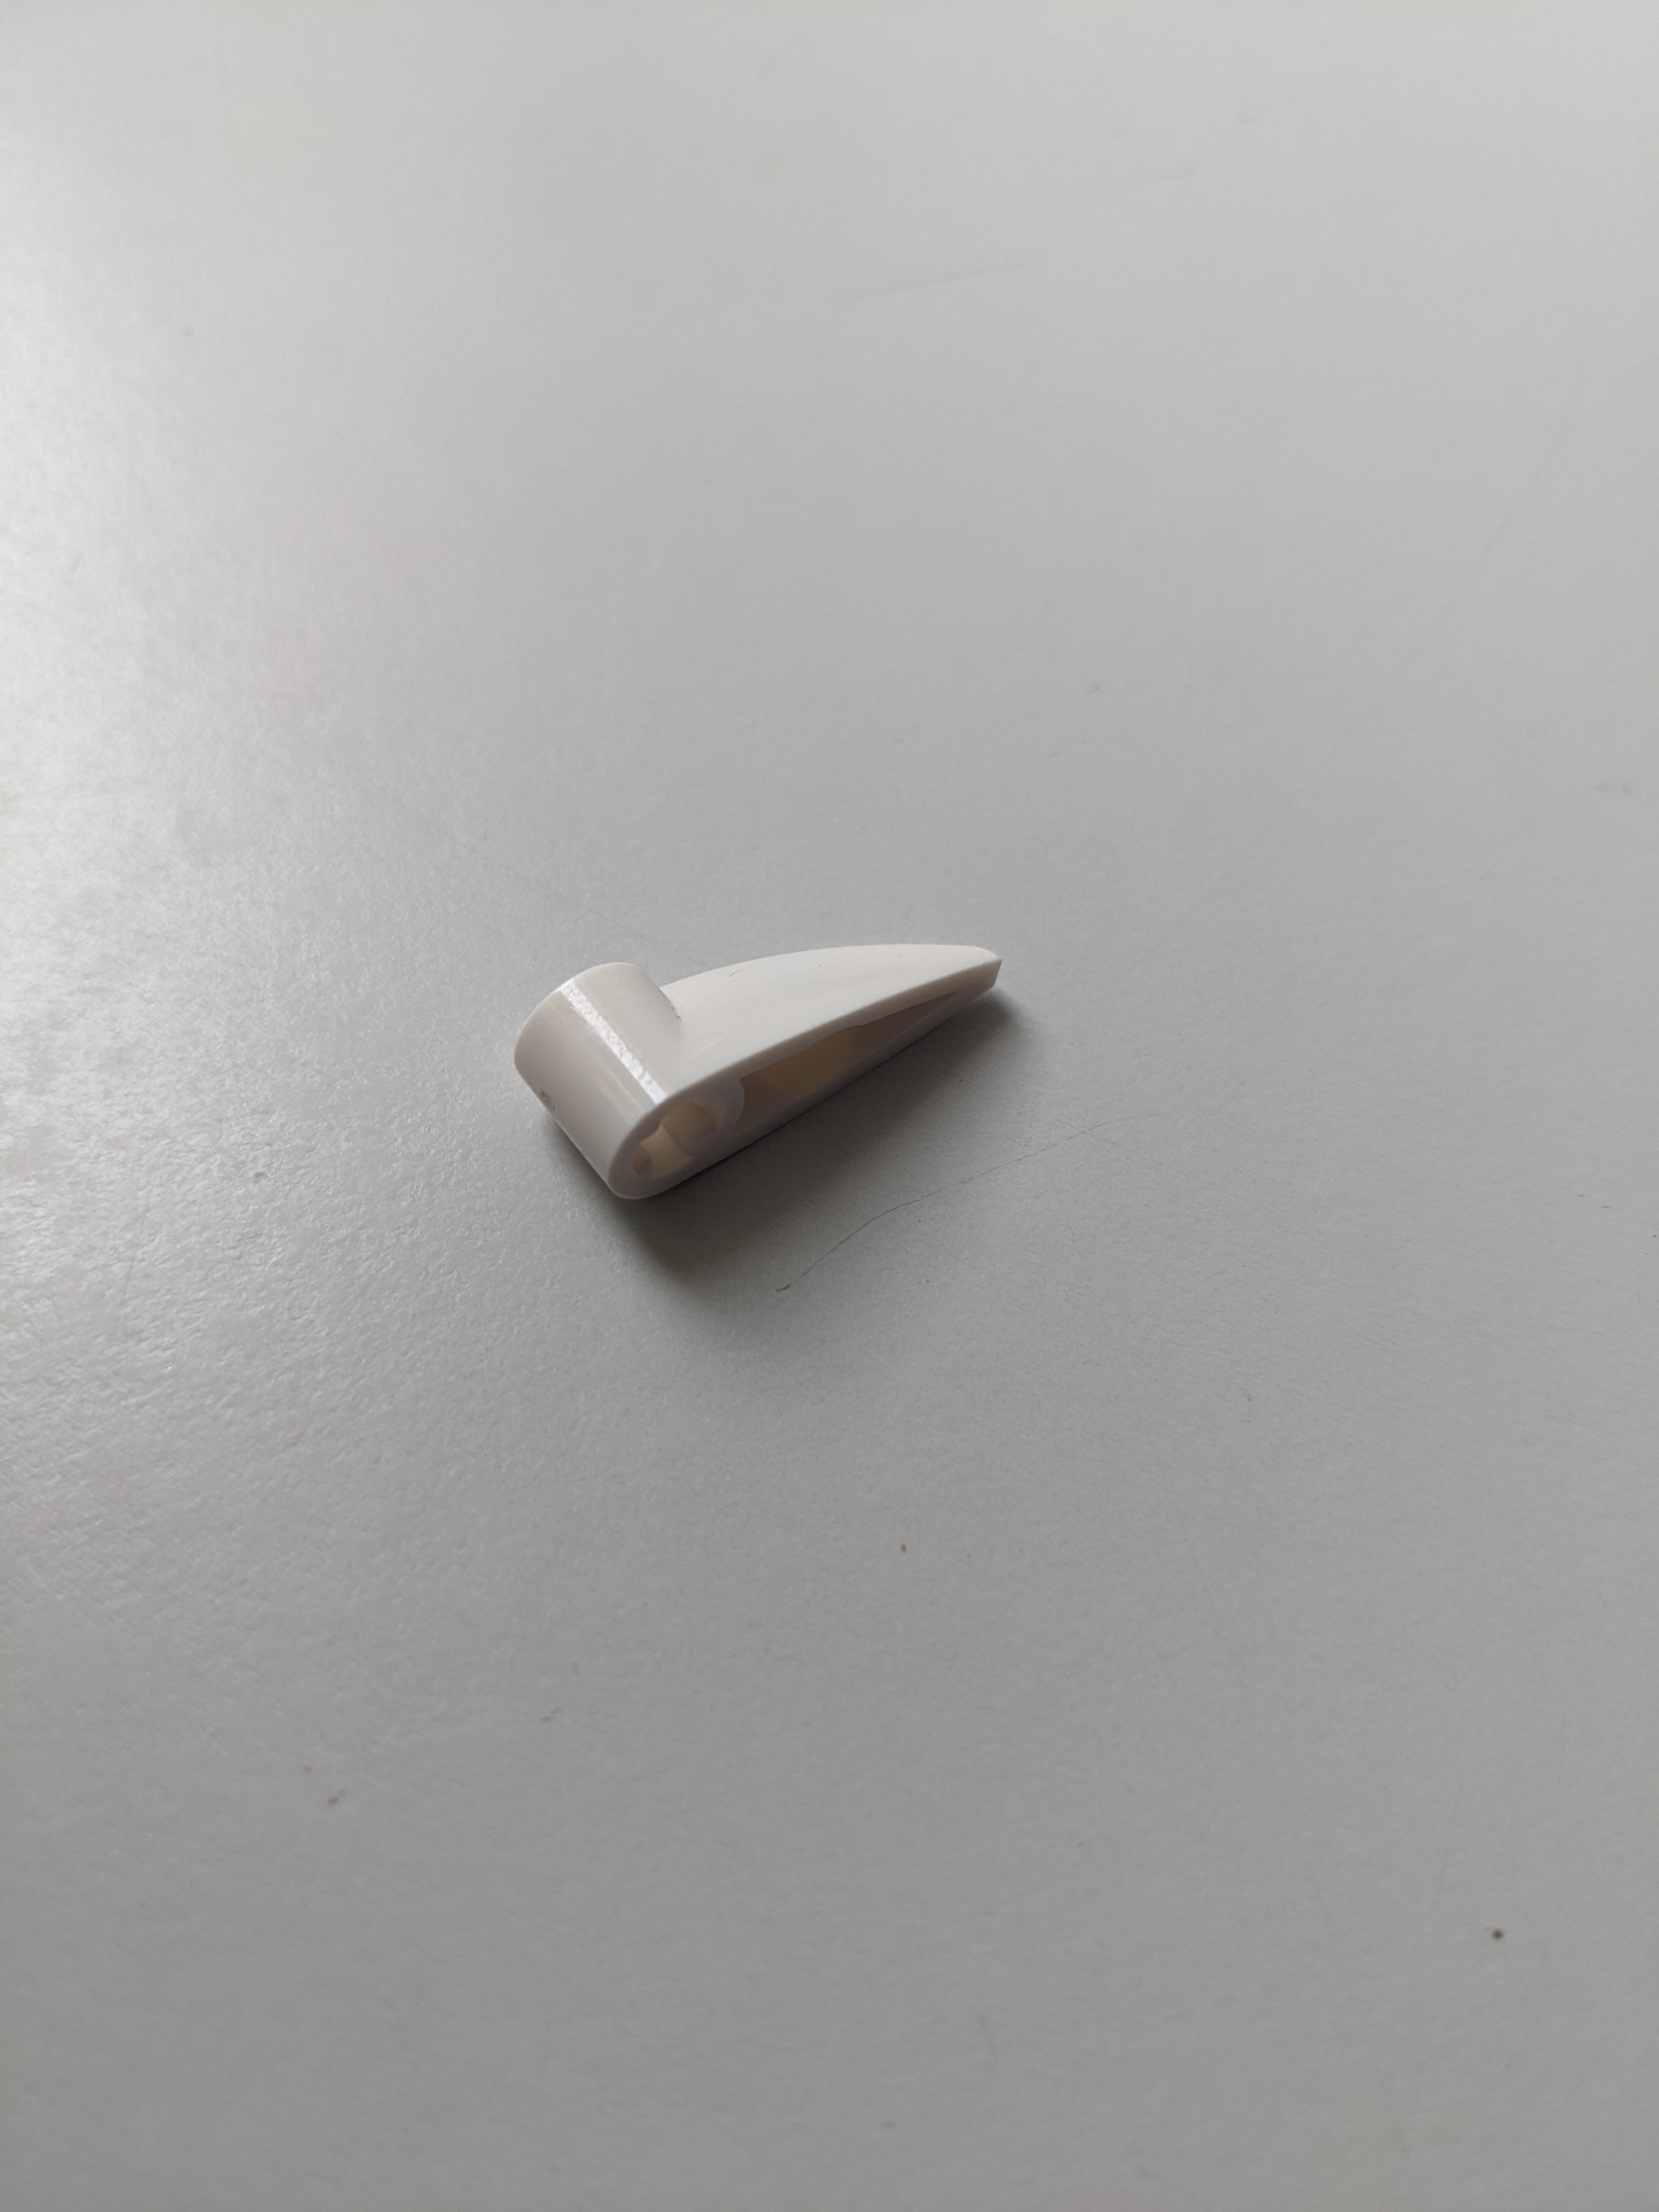Kappe: (481, 916, 1026, 1212)
